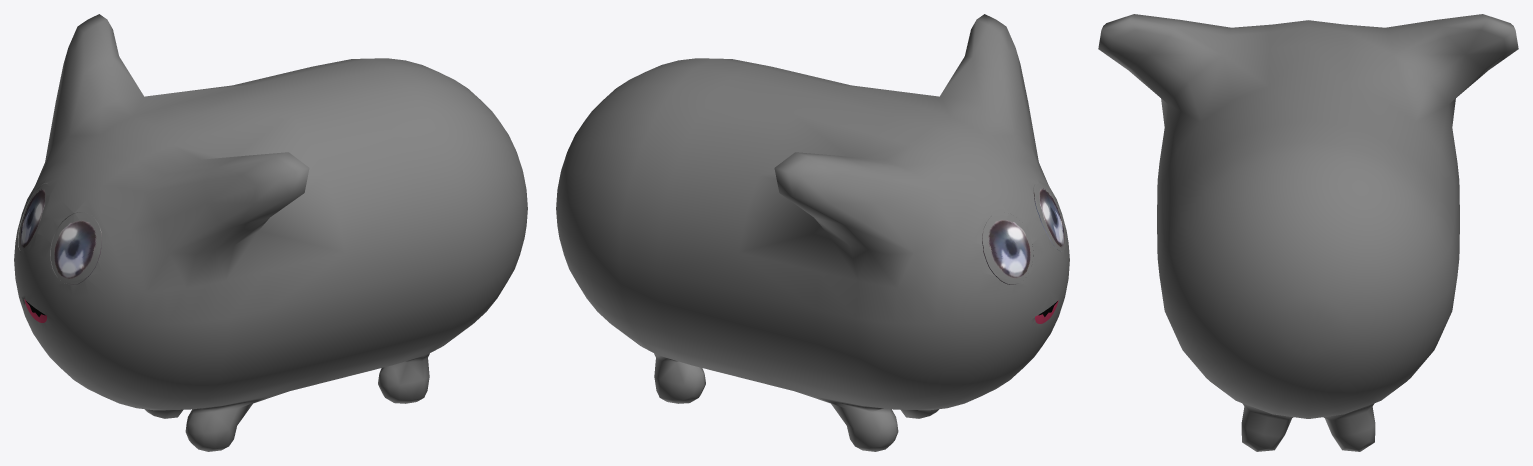
Rendered from humancell.fbx.
The picture shows the model from 3 angles, left to right: view 1: azimuth 30°, elevation 25°; view 2: azimuth 150°, elevation 25°; view 3: azimuth 270°, elevation 25°; orthographic projection.
Parts seen in each view (by area): view 1: Capsule009, Capsule010; view 2: Capsule009, Capsule010; view 3: Capsule009.
Part boxes in pixels (<box>): Capsule009: <box>14,14,527,451</box>; Capsule010: <box>18,183,101,284</box>; Capsule009: <box>556,14,1069,451</box>; Capsule010: <box>982,183,1066,284</box>; Capsule009: <box>1098,14,1518,451</box>.
Bounding box in the file's own units: 239 × 165 × 185.
